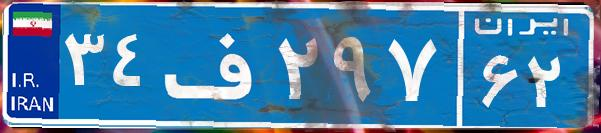2: (273, 28, 330, 110), (525, 38, 570, 115)
3: (57, 26, 110, 107)
4: (110, 28, 158, 105)
6: (475, 38, 525, 113)
7: (385, 28, 445, 110)
9: (330, 28, 385, 110)
ف: (158, 15, 273, 115)
